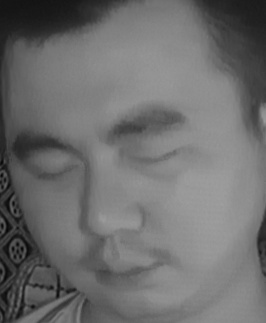blink: (128, 140, 188, 178), (28, 156, 82, 191)
mouth: (85, 242, 165, 293)
